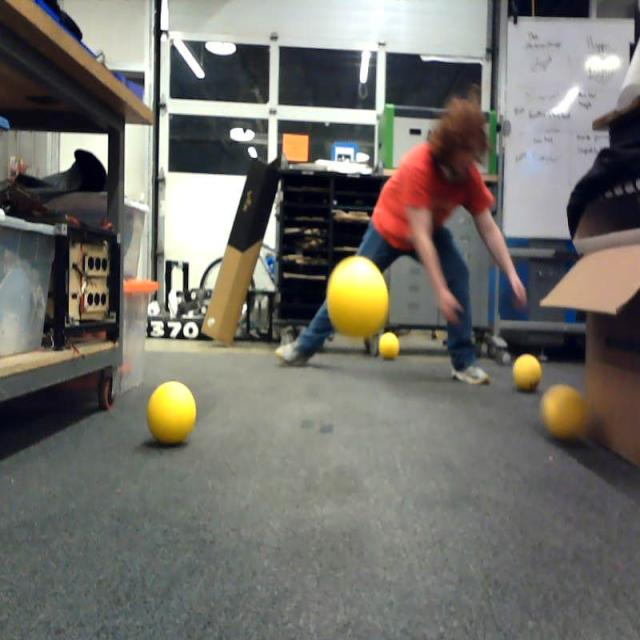Fuel: (326, 255, 389, 338), (146, 381, 196, 445), (546, 386, 588, 439), (513, 354, 542, 391), (378, 332, 399, 360)
